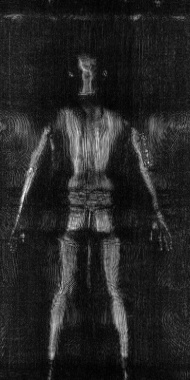gun: (138, 125, 160, 169)
